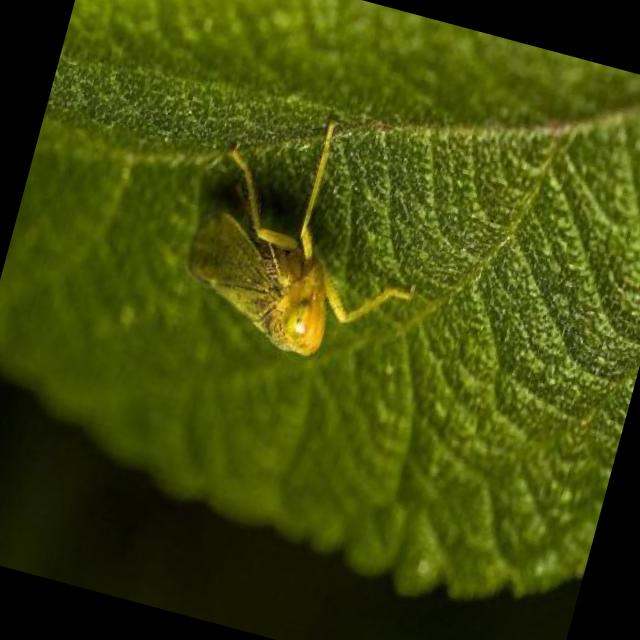green-leafhopper: (168, 83, 457, 382)
